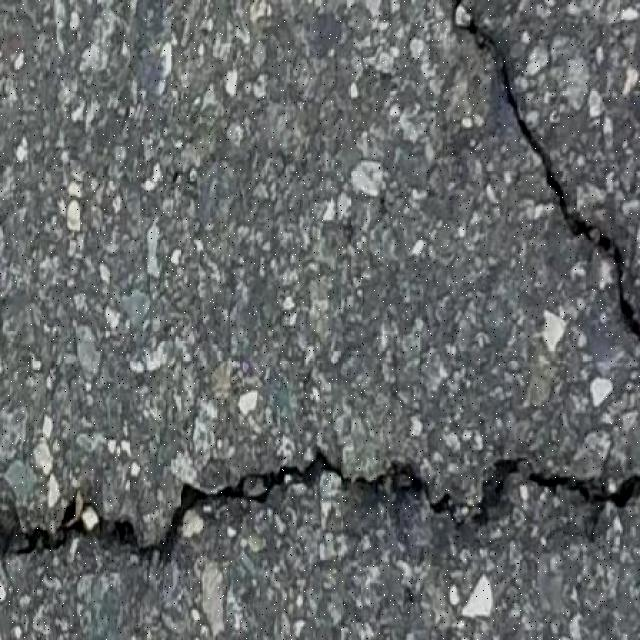Crack: (437, 0, 640, 339), (0, 460, 640, 567)
